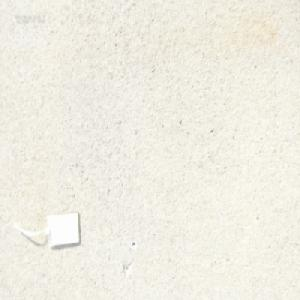LuggageTag: (10, 209, 82, 252)
